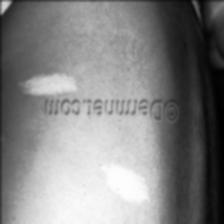Unclassified: (96, 155, 148, 209), (17, 68, 75, 93), (0, 136, 5, 146)
